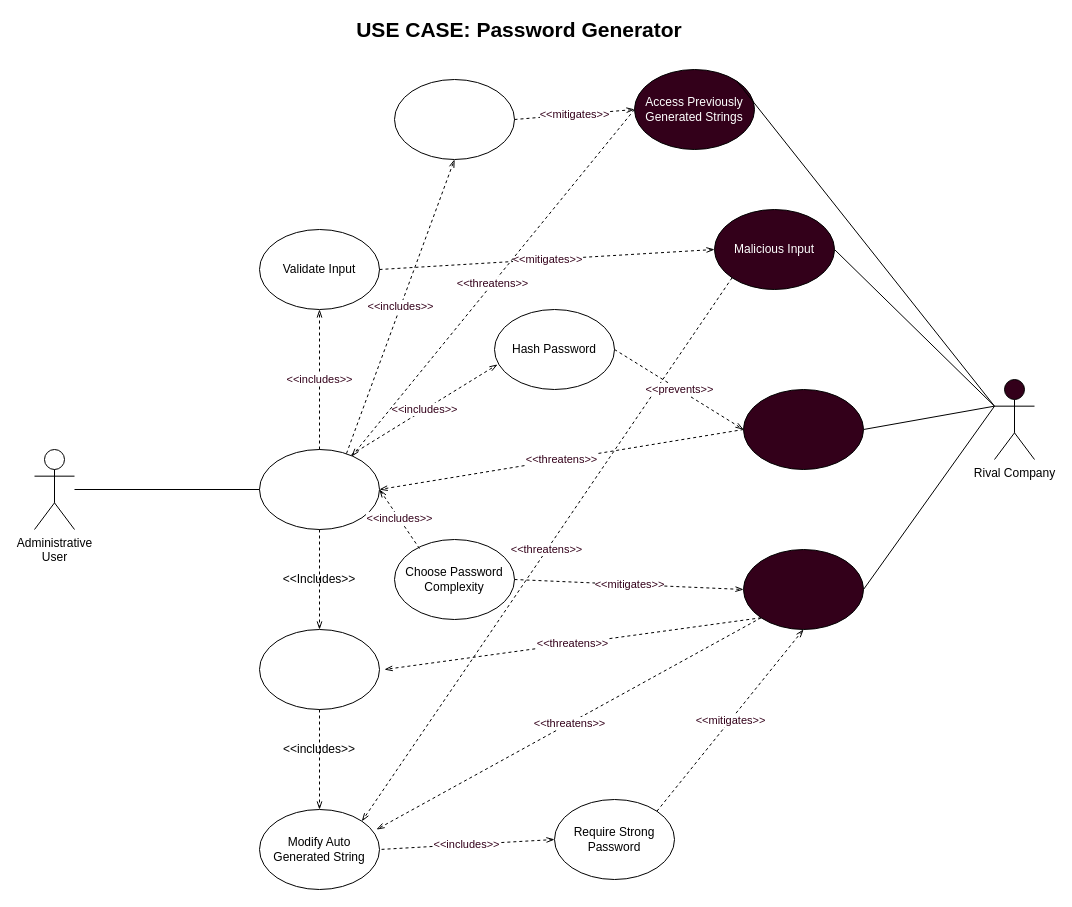
The diagram is 1072 pixels wide and 907 high, and some of its shapes have lost their labels. Here are the shapes that lost their labels. From the top down, the centre of each, then its label:
pixel 454 119: Purge Previously Generated Strings
pixel 803 429: Steal Plaintext Password
pixel 319 489: Password Generator
pixel 803 589: Guess String
pixel 319 669: Generate String
